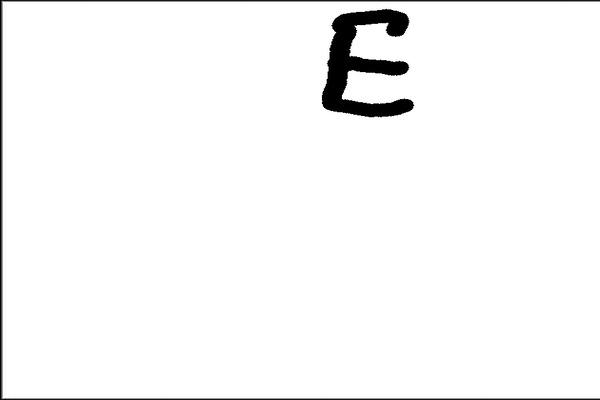E: (318, 5, 421, 119)
